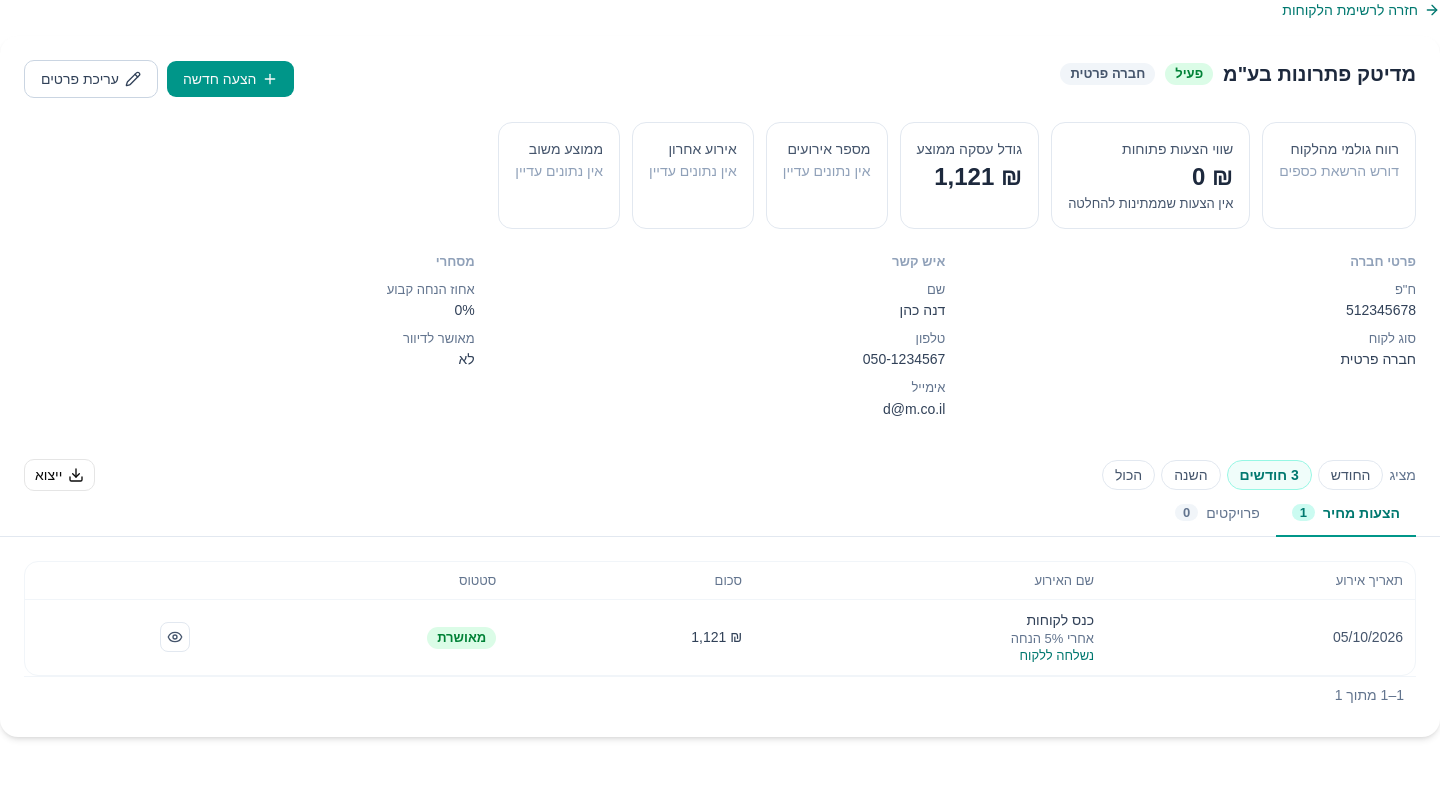
Test: CustomerDetailsPage — חיבור לחלון-הייצוא › 🔴 כשל בטעינת הפרויקטים — חסימה, ו"נסי שוב" בתוך החלון משחרר
Click the button with test id "customer-tab-projects" at (1217, 514), box [1159,491,1276,537]
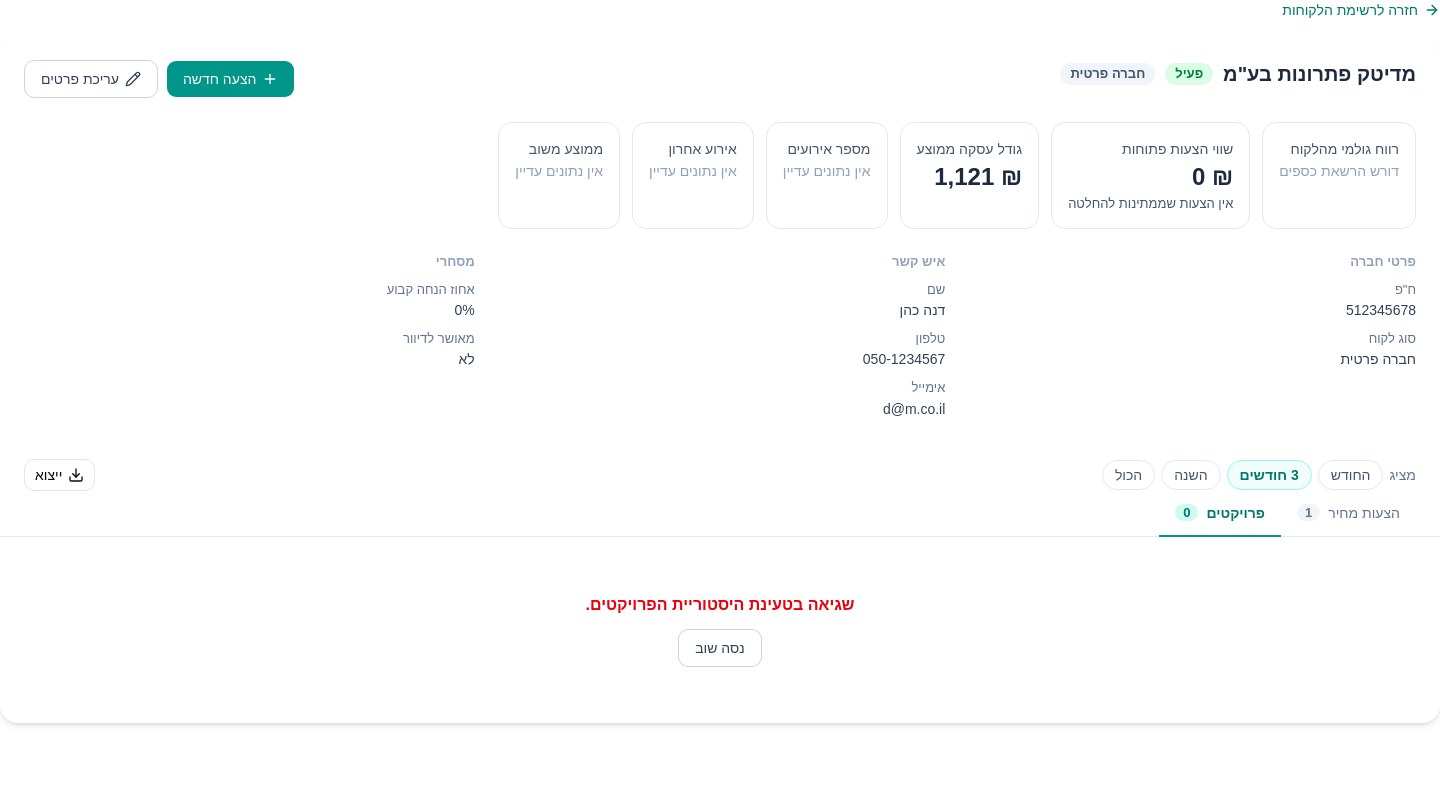
Expected: the message "שגיאה בטעינת היסטוריית הפרויקטים. נסה שוב" is shown, [586,596,854,667]
Click the button with test id "customer-export-button" at (60, 475), box [24,459,95,491]
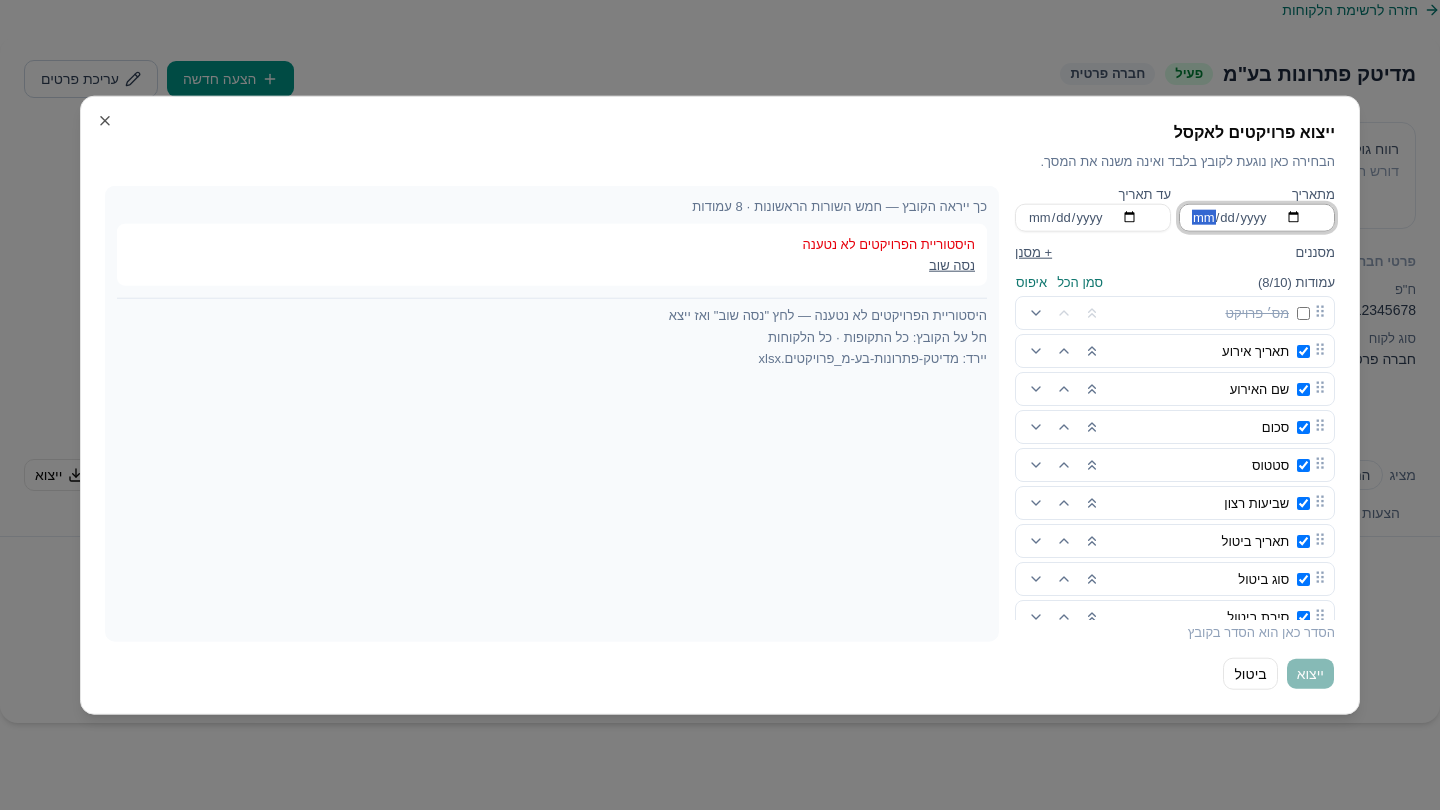
Expected: the text with test id "export-count" shows "לא נטענה", [669,308,987,323]
Expected: the button with test id "export-dialog-run" is disabled, [1286,657,1335,689]
Click the button "נסה שוב" at (952, 265), box [929,257,975,274]
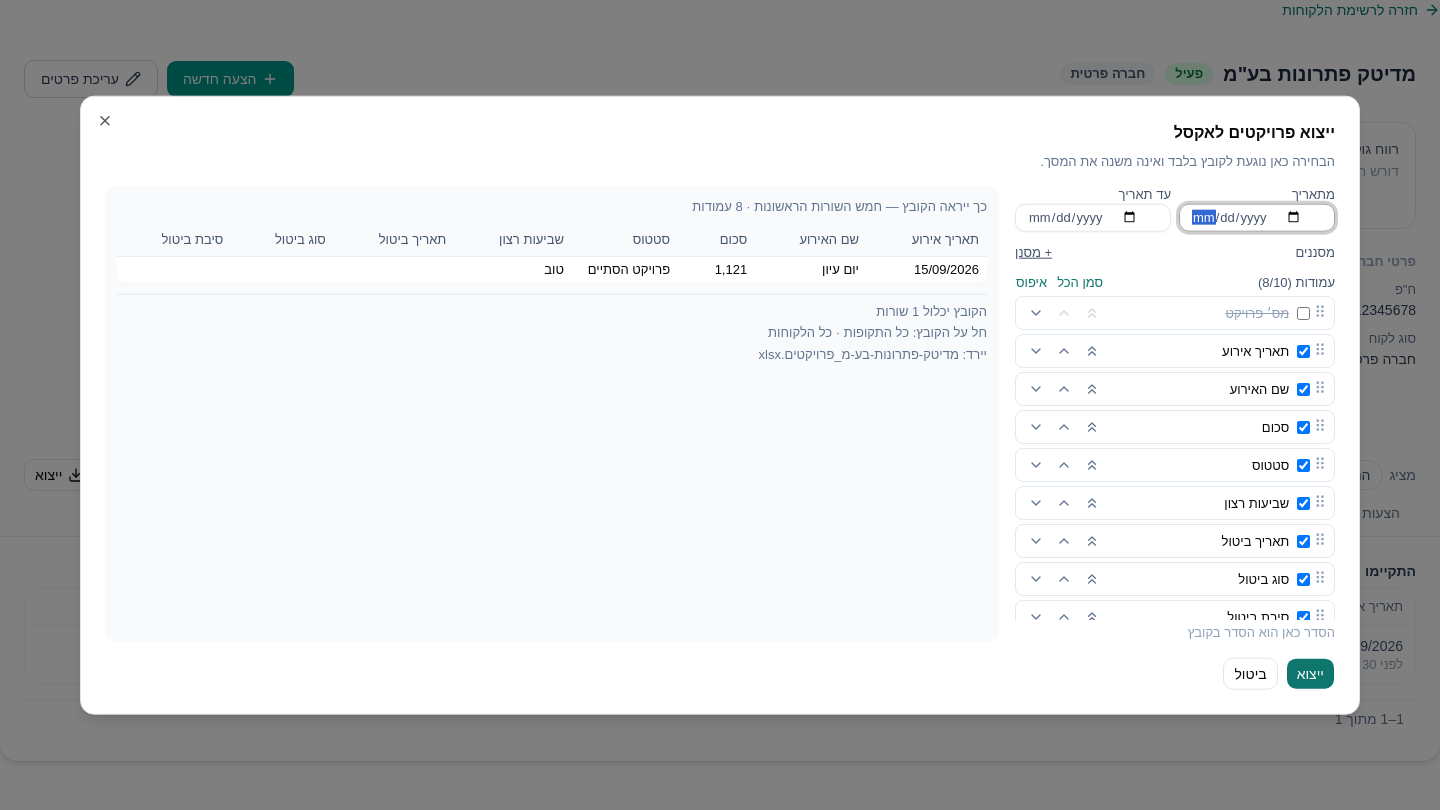
Expected: the button with test id "export-dialog-run" is enabled, [1286,657,1335,689]
